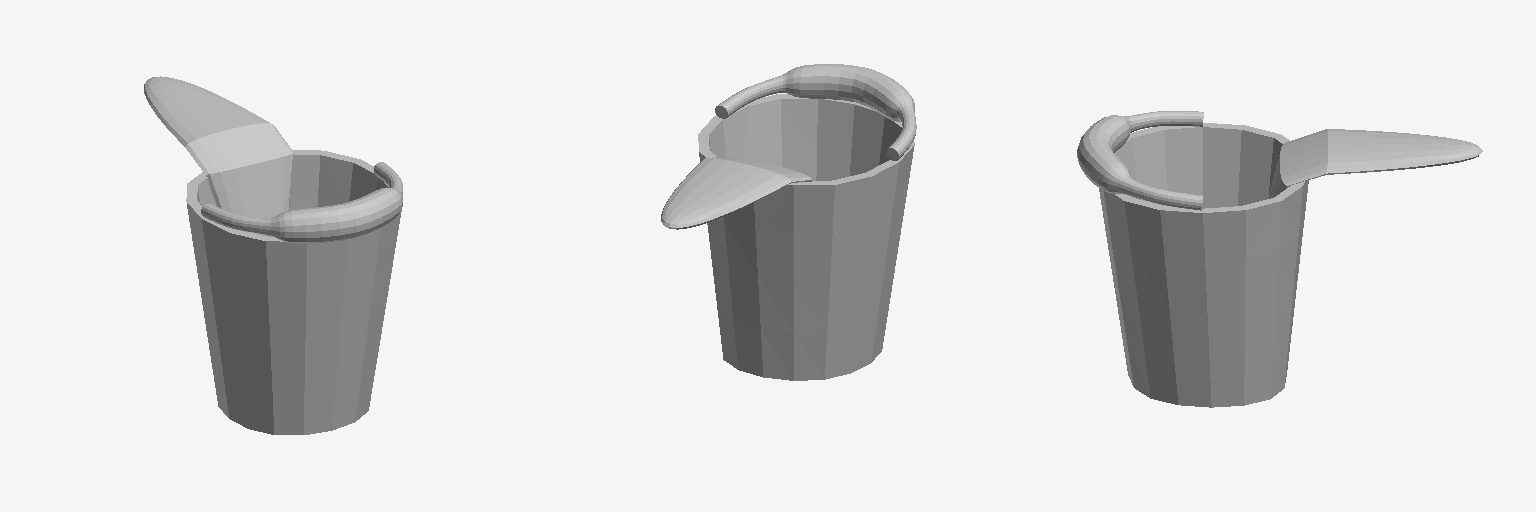
Rendered from bucket-water.obj.
3 renders of one model, left to right at view 1: azimuth 30°, elevation 25°; view 2: azimuth 150°, elevation 25°; view 3: azimuth 270°, elevation 25°, orthographic.
Parts seen in each view (by area): view 1: Bucket.004_Cube.1441; view 2: Bucket.004_Cube.1441; view 3: Bucket.004_Cube.1441.
Part boxes in pixels (x1,y1,x2,y2): Bucket.004_Cube.1441: (144, 76, 402, 434); Bucket.004_Cube.1441: (661, 64, 916, 380); Bucket.004_Cube.1441: (1077, 111, 1482, 407).
Bounding box in the file's own units: 1.31 × 1.61 × 2.48.